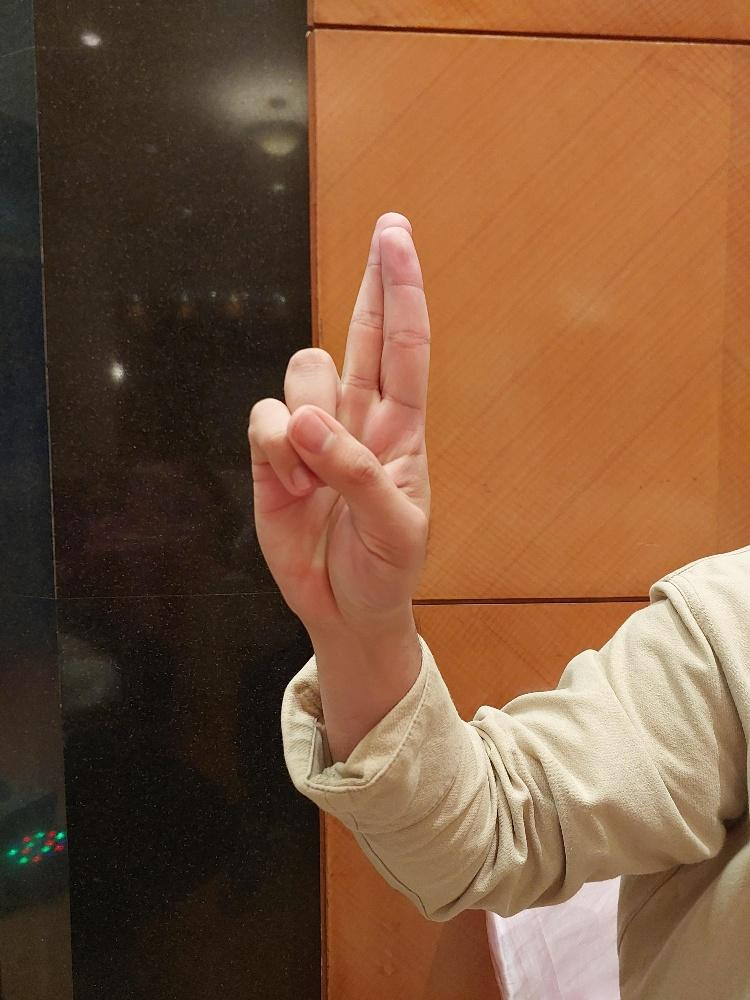r: (245, 209, 433, 633)
